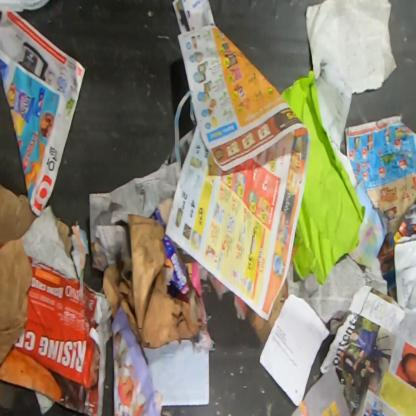cardboard: (0, 255, 114, 415), (103, 214, 199, 352), (0, 184, 38, 245), (56, 217, 73, 255)
